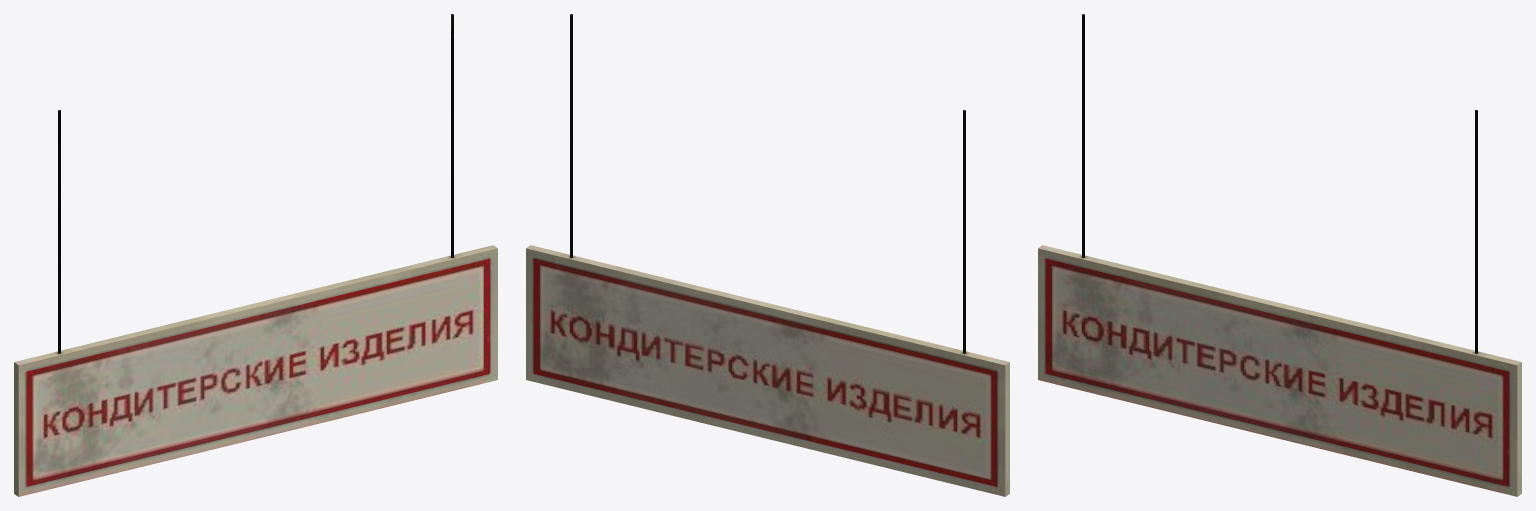
Rendered from sign_konditer_lod1_web.glb.
3 renders of one model, left to right at view 1: azimuth 30°, elevation 25°; view 2: azimuth 150°, elevation 25°; view 3: azimuth 330°, elevation 25°, orthographic.
Visible parts, largest first — view 1: SignKonditer_Body; view 2: SignKonditer_Body; view 3: SignKonditer_Body.
Part boxes in pixels (<box>): SignKonditer_Body: <box>14,14,497,496</box>; SignKonditer_Body: <box>526,14,1009,496</box>; SignKonditer_Body: <box>1038,14,1521,496</box>.
Size of the model in its own units: 1.22 by 0.91 by 0.021.
1 material, 1 textured.
